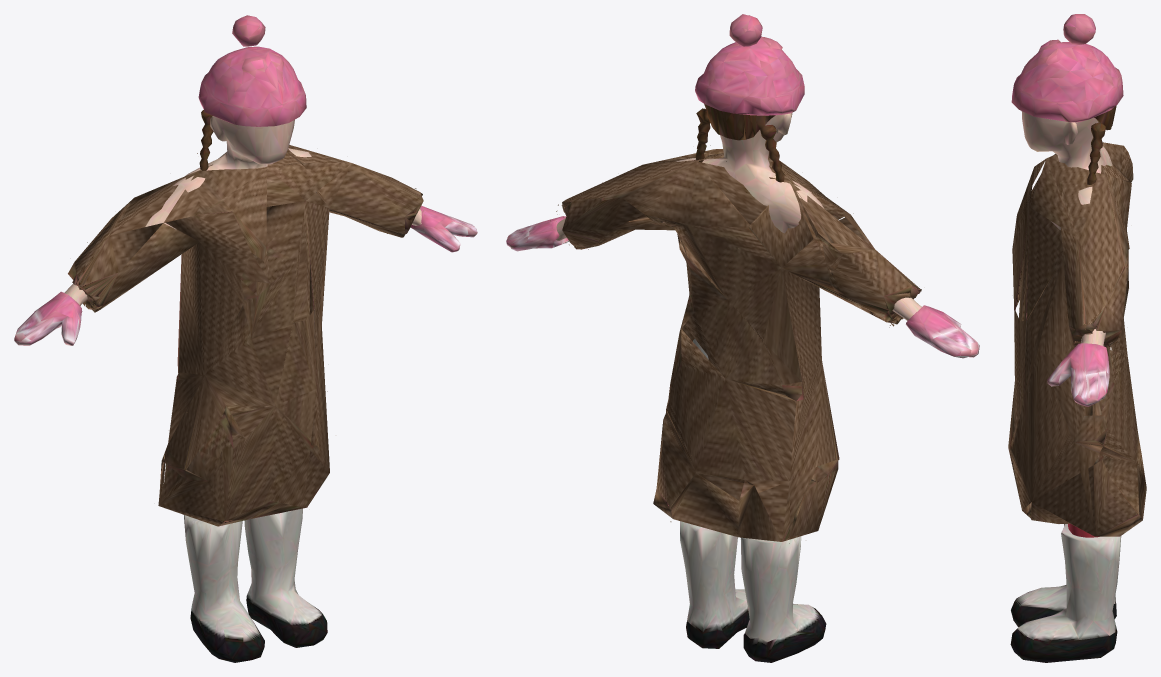
Rendered from npc_x_girl_w1.glb.
3 renders of one model, left to right at view 1: azimuth 30°, elevation 25°; view 2: azimuth 150°, elevation 25°; view 3: azimuth 270°, elevation 25°, orthographic. The views are drawn at different scales.
Visible parts, largest first — view 1: Human; view 2: Human; view 3: Human.
Boxes of the visible parts, x1=… form: Human: x1=14, y1=15, x2=477, y2=662; Human: x1=506, y1=14, x2=979, y2=662; Human: x1=1008, y1=14, x2=1146, y2=662.
Bounding box in the file's own units: 1.14 × 1.45 × 0.2935.
1 material, 1 textured.
